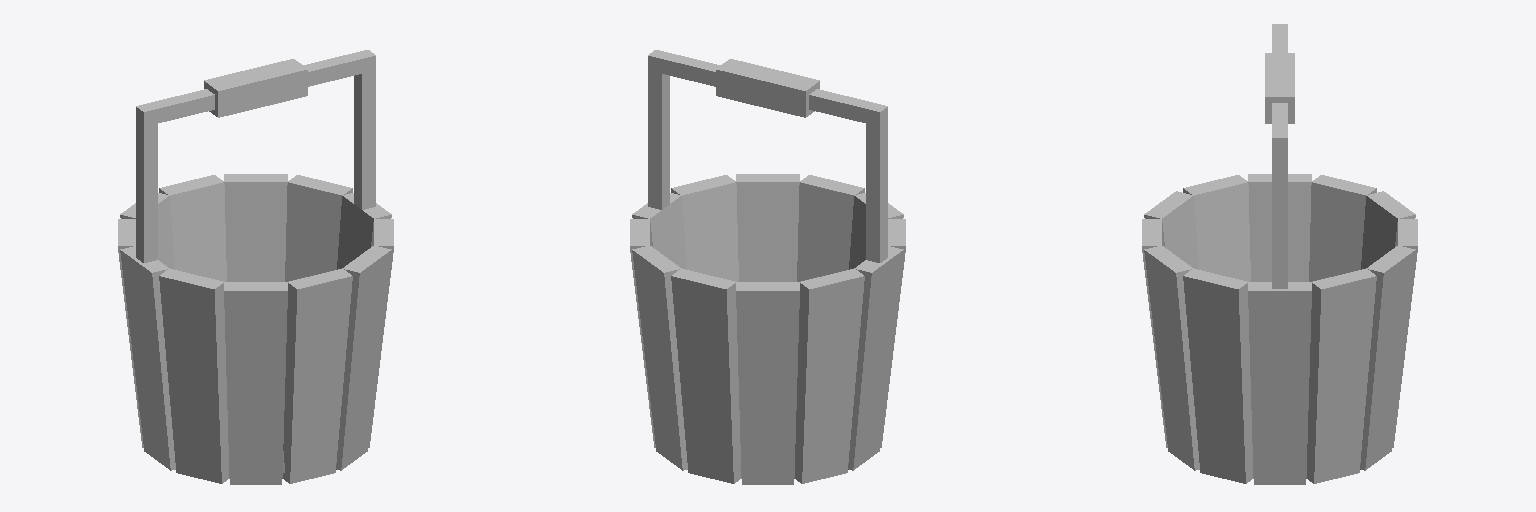
Rendered from Bucket.obj.
3 renders of one model, left to right at view 1: azimuth 30°, elevation 25°; view 2: azimuth 150°, elevation 25°; view 3: azimuth 270°, elevation 25°, orthographic.
Visible parts, largest first — view 1: pCube13, pCube14; view 2: pCube13, pCube14; view 3: pCube13, pCube14.
Boxes of the visible parts, x1,y1,x2,y2 form: pCube13: [118, 174, 393, 484]; pCube14: [136, 50, 375, 262]; pCube13: [630, 174, 905, 484]; pCube14: [648, 50, 887, 262]; pCube13: [1142, 174, 1417, 484]; pCube14: [1265, 24, 1294, 288].
Bounding box in the file's own units: 4.32 × 6.24 × 4.32.